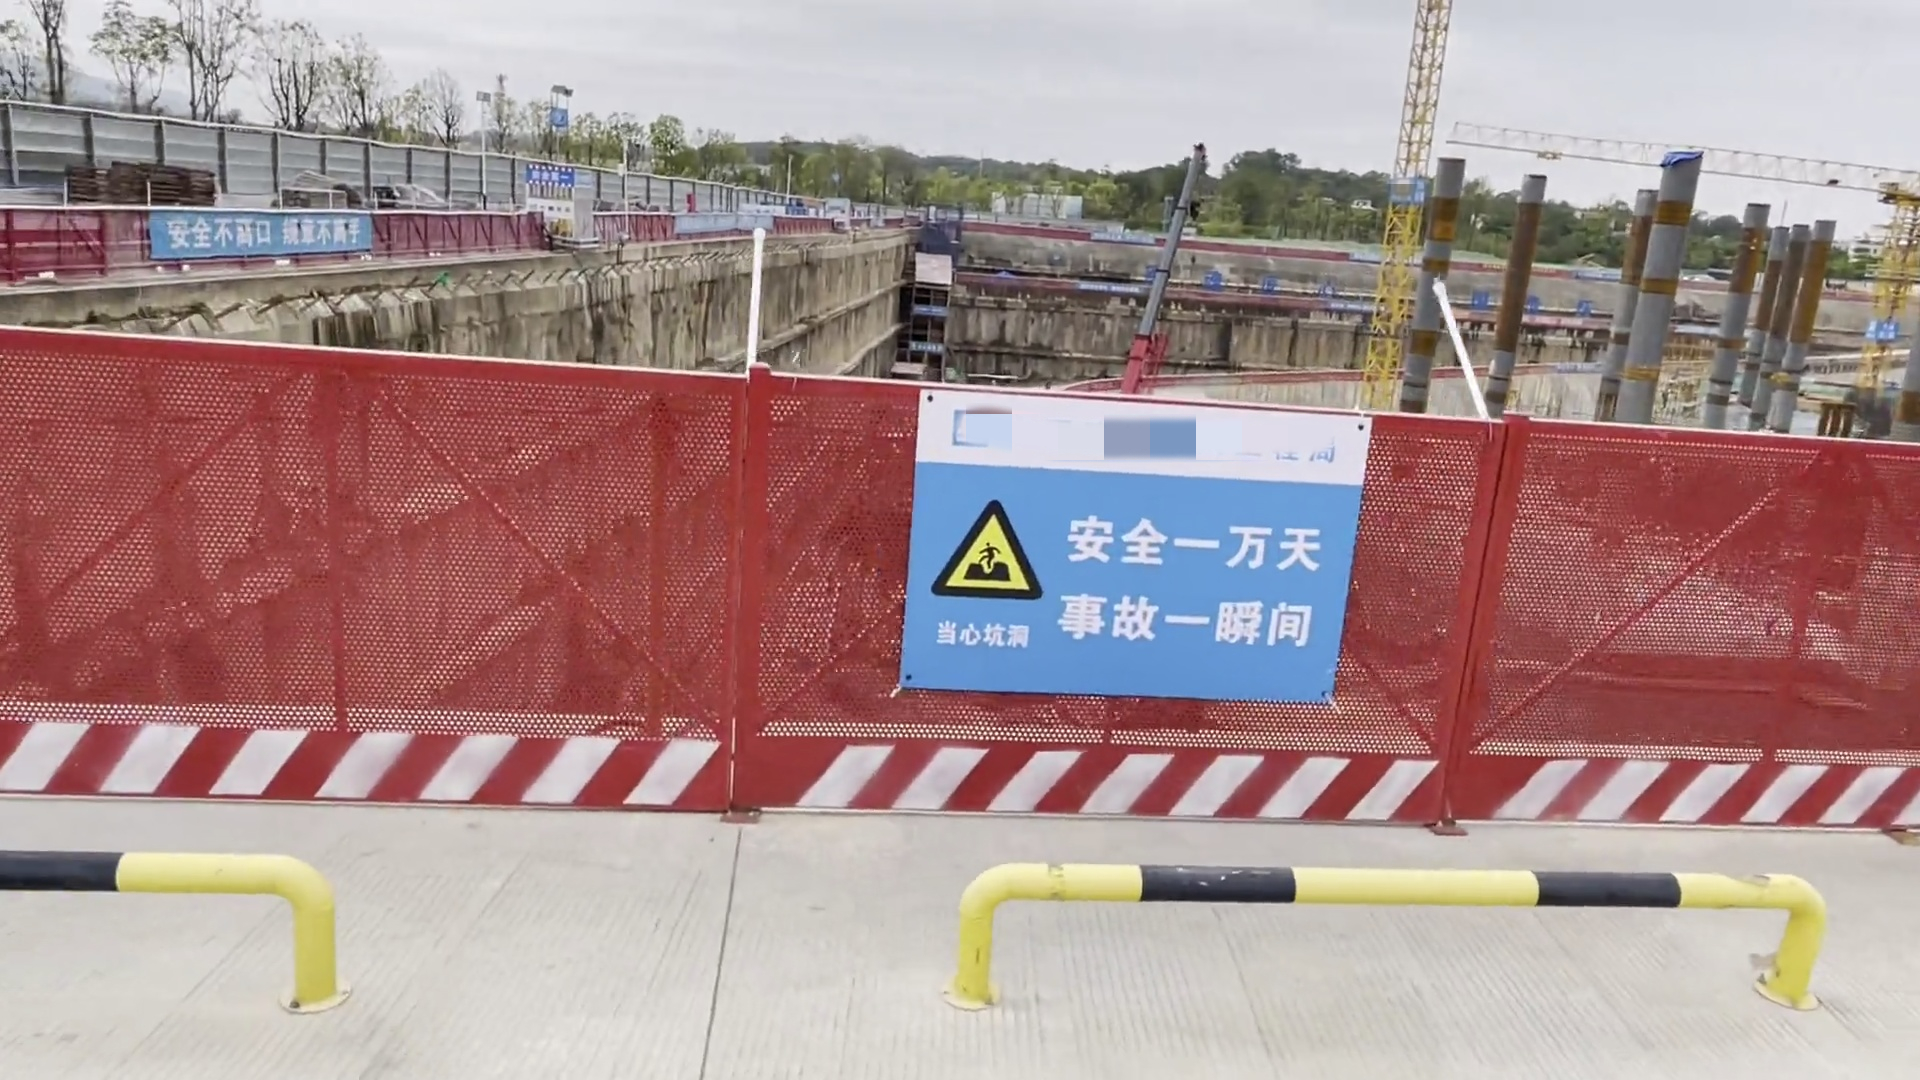fence: (3, 327, 1915, 831), (5, 212, 546, 282)
hook: (1189, 195, 1201, 219)
slogan: (887, 386, 1357, 715), (149, 212, 365, 262), (674, 218, 771, 235), (524, 167, 574, 185), (1079, 284, 1139, 295), (1089, 232, 1153, 243), (1329, 301, 1379, 313), (1522, 315, 1584, 324), (905, 338, 942, 352), (1575, 272, 1615, 282), (1531, 265, 1557, 276), (1480, 262, 1505, 272), (1880, 320, 1894, 338), (1414, 182, 1424, 200)
